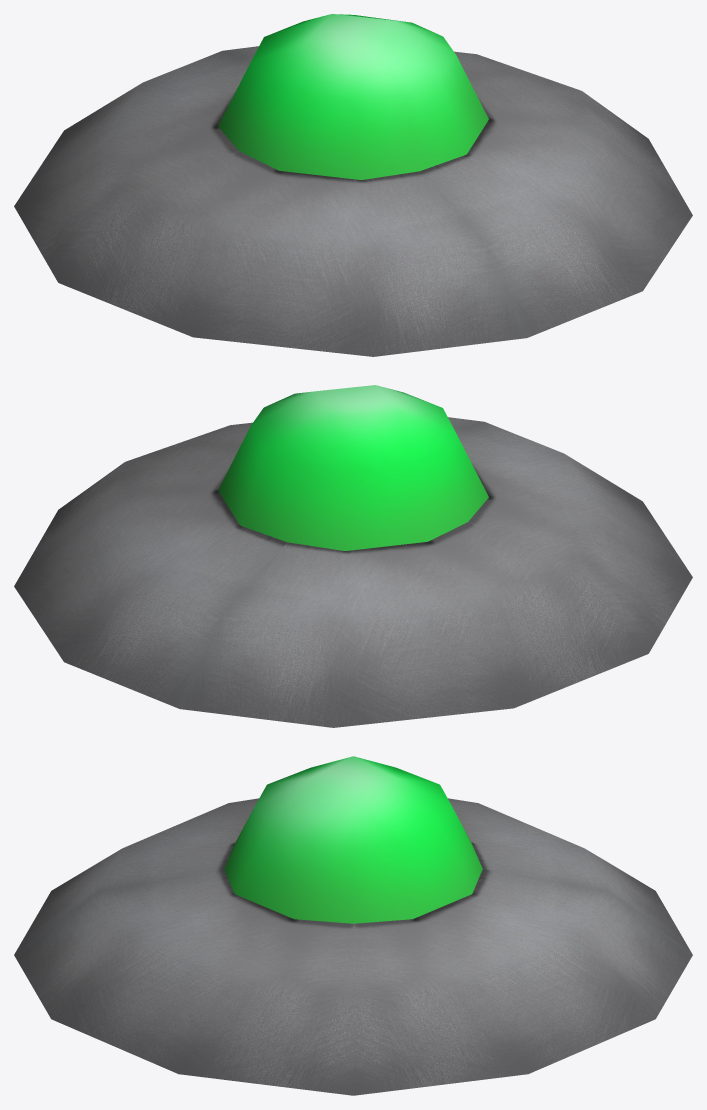
The model's file is ovni.FBX.
The picture shows the model from 3 angles, top to bottom: view 1: azimuth 30°, elevation 25°; view 2: azimuth 150°, elevation 25°; view 3: azimuth 270°, elevation 25°; orthographic projection. The views are drawn at different scales.
Visible parts, largest first — view 1: Plane001; view 2: Plane001; view 3: Plane001.
Boxes of the visible parts, x1=… form: Plane001: x1=14, y1=14, x2=692, y2=356; Plane001: x1=14, y1=385, x2=692, y2=727; Plane001: x1=14, y1=756, x2=692, y2=1095.
Bounding box in the file's own units: 112 × 42.82 × 114.
